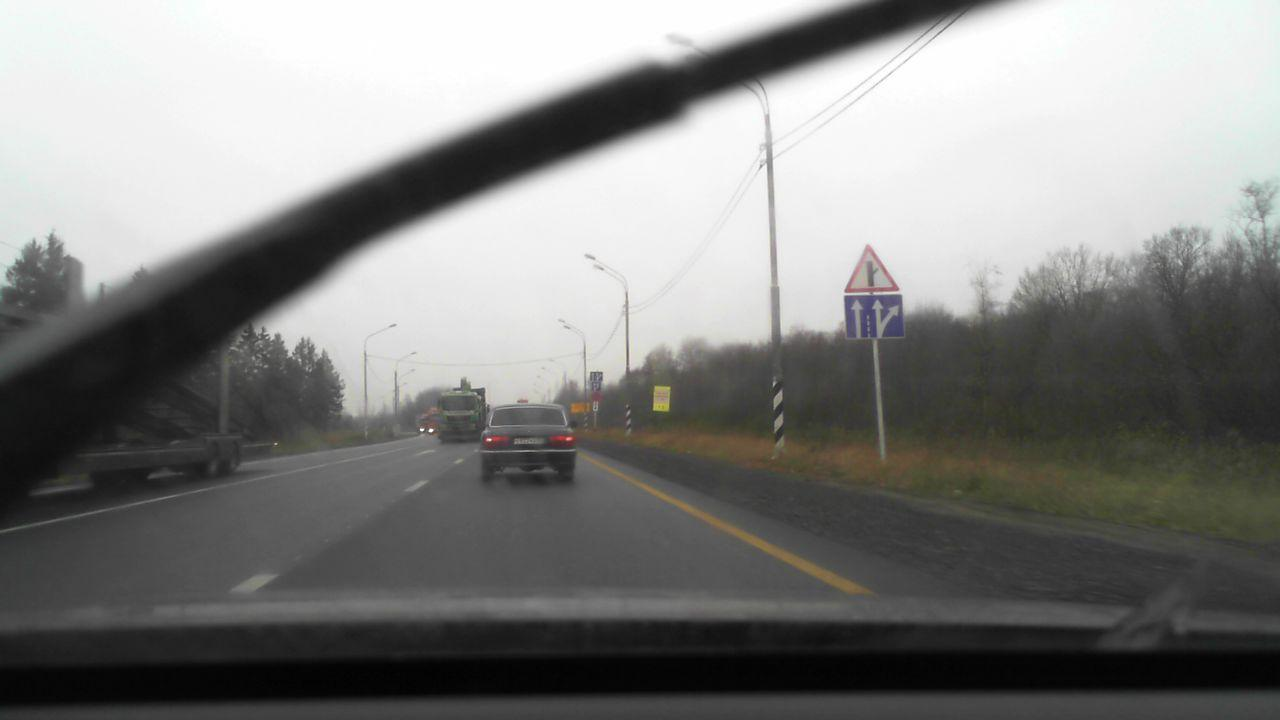2_3_4: (844, 244, 900, 292)
3_27: (592, 392, 601, 401)
5_15_1: (843, 295, 904, 341), (591, 371, 603, 381)
5_15_3: (592, 381, 601, 390)
8_2_3: (593, 402, 599, 412)
